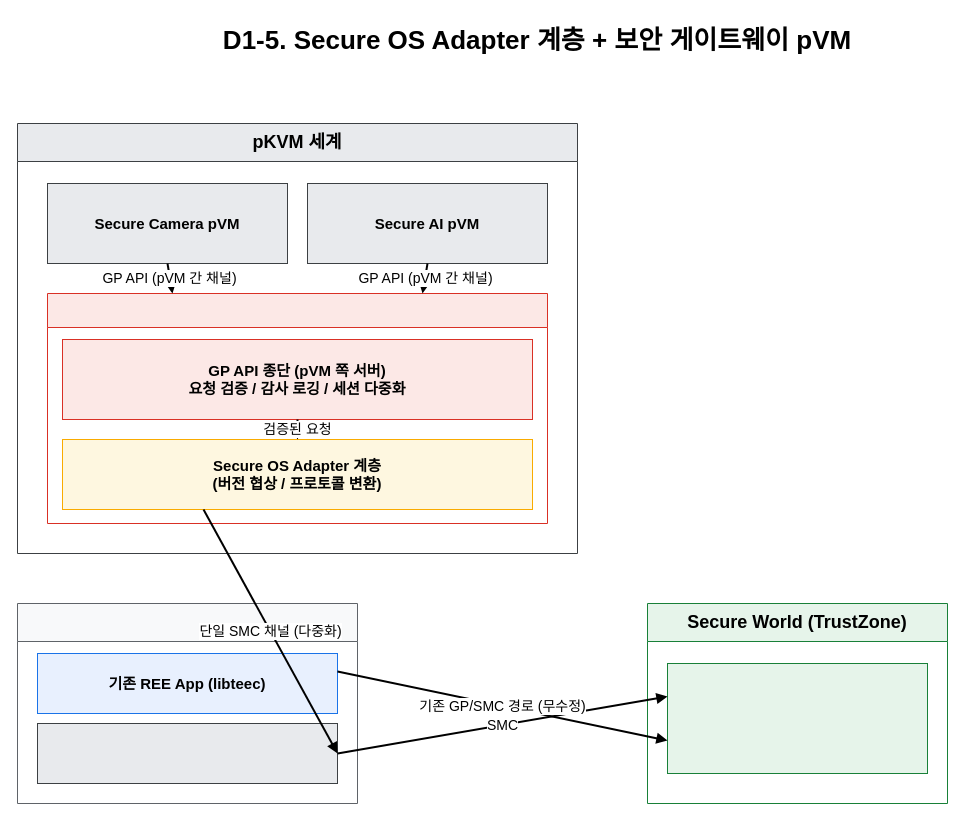
Image size: 965x821. Some labels were removed from this diagram. The box of each missing label's shape, as (x1, y1, x2, y2) in pixels:
Host (비신뢰): (16, 602, 358, 804)
SMC 통로 (중계만): (36, 722, 338, 784)
TEE Gateway pVM: (46, 292, 548, 524)
TZ Secure OS (무수정): (666, 662, 928, 774)
